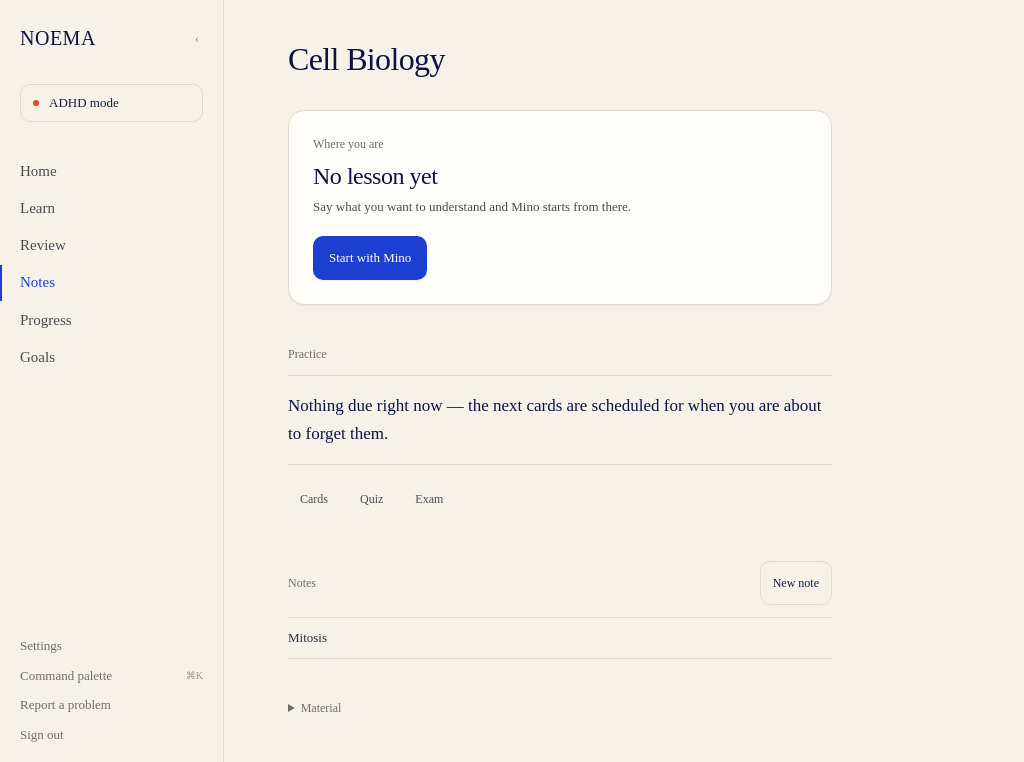
NotebookPage addNote › surfaces an error and keeps the create dialog usable when creation fails
Expected: the text "Mitosis" is shown, x1=288 y1=628 x2=327 y2=648
Step 1. Click the button "New note" → click(796, 583), box x1=760 y1=561 x2=832 y2=605
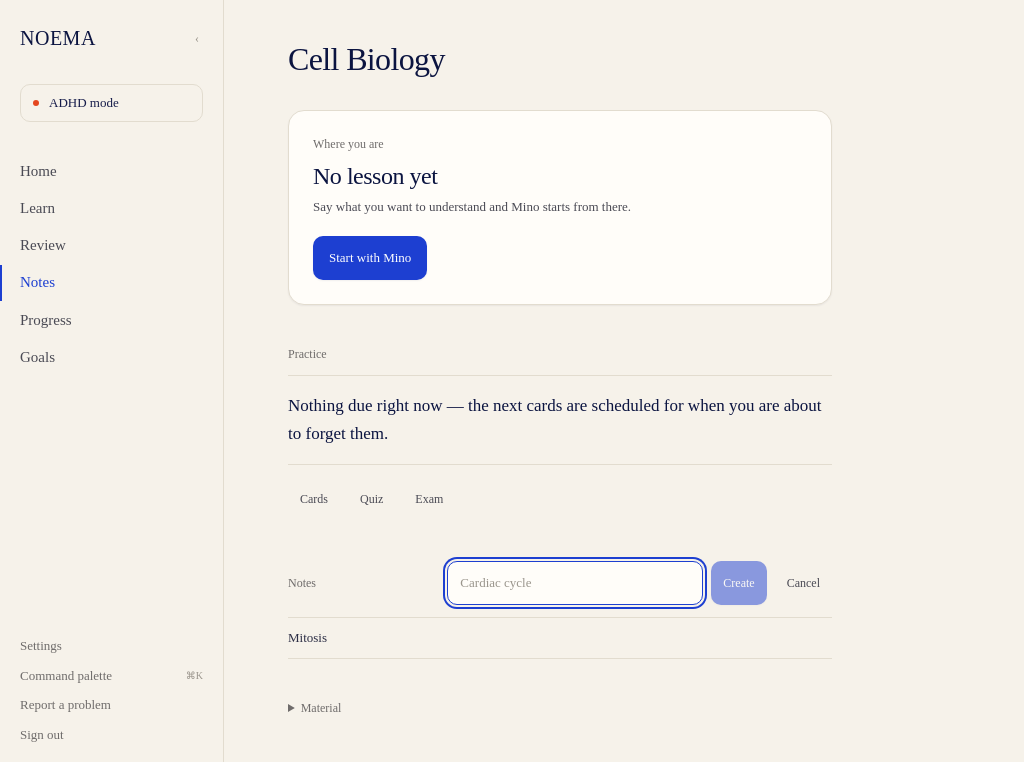
Step 2. Type "Meiosis" into the field named "Note title" → (575, 583), box x1=447 y1=561 x2=703 y2=605
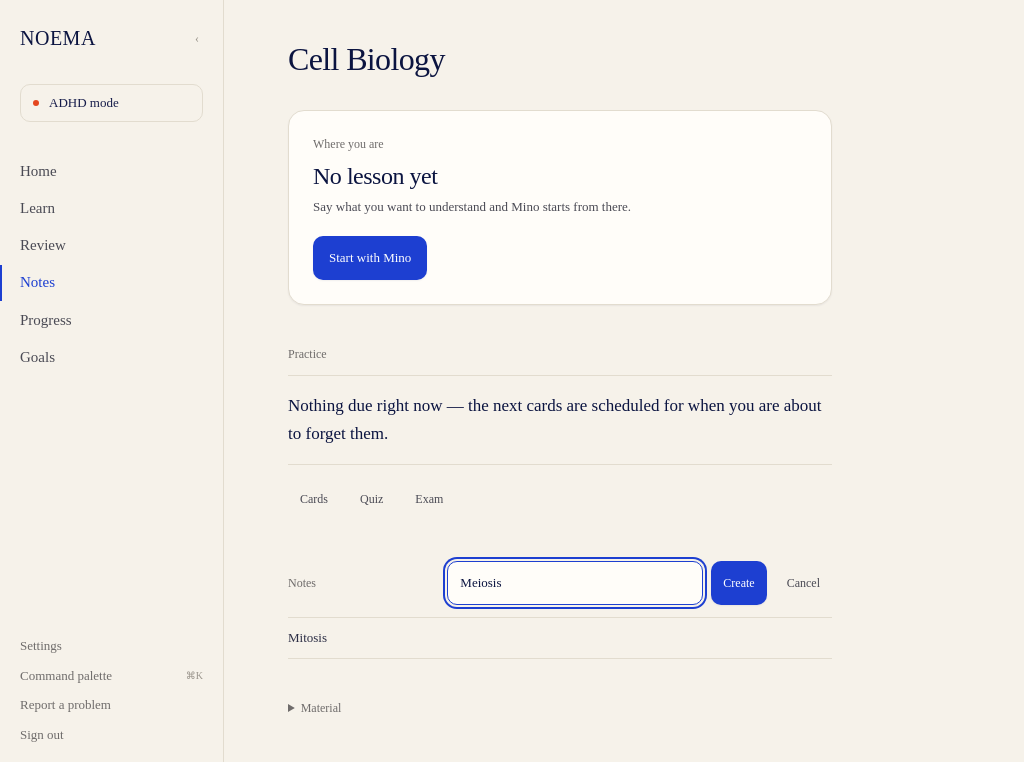
Step 3. Click the button "Create" → click(739, 583), box x1=711 y1=561 x2=767 y2=605
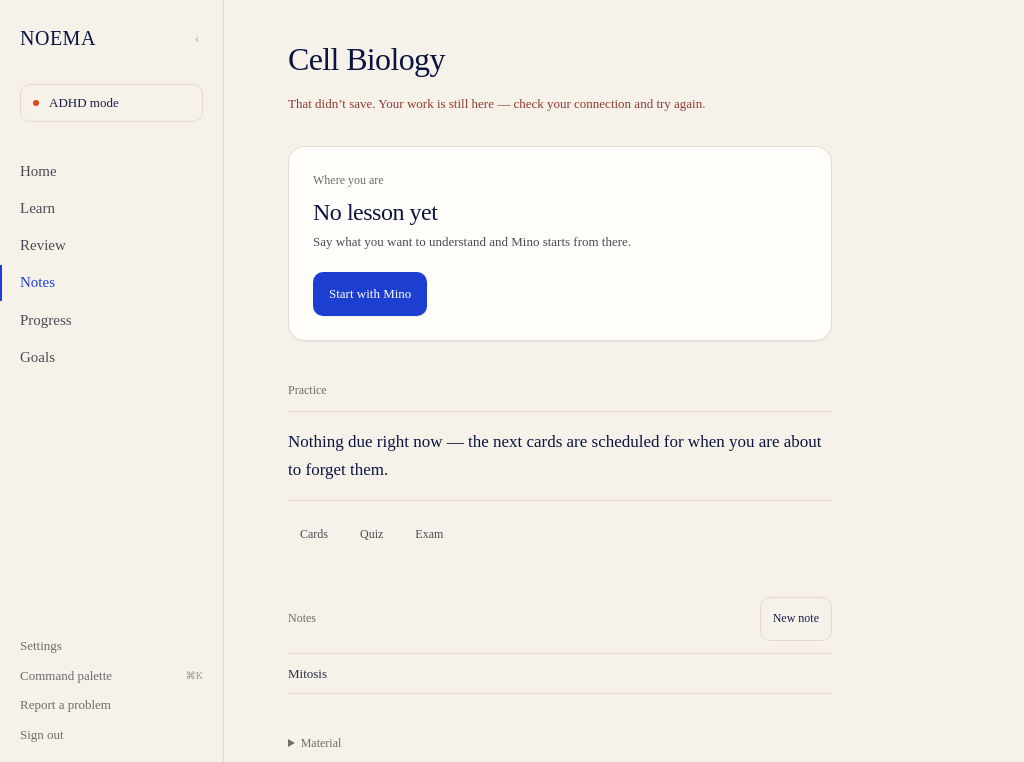
Expected: the message does not show "boom", x1=288 y1=96 x2=706 y2=111
Expected: the message shows "didn’t save", x1=288 y1=96 x2=706 y2=111
